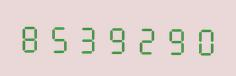eight: (17, 18, 44, 54)
five: (45, 18, 72, 55)
nine: (101, 19, 128, 56), (157, 20, 184, 57)
three: (73, 19, 100, 55)
two: (129, 20, 156, 56)
zero: (185, 21, 212, 57)
